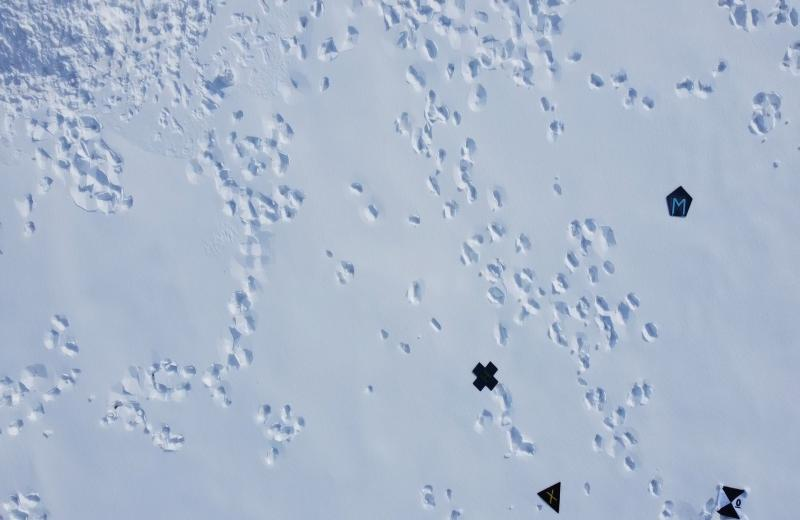Cross: (469, 358, 501, 395)
Pentagon: (662, 183, 694, 219)
Triangle: (535, 479, 566, 515)
